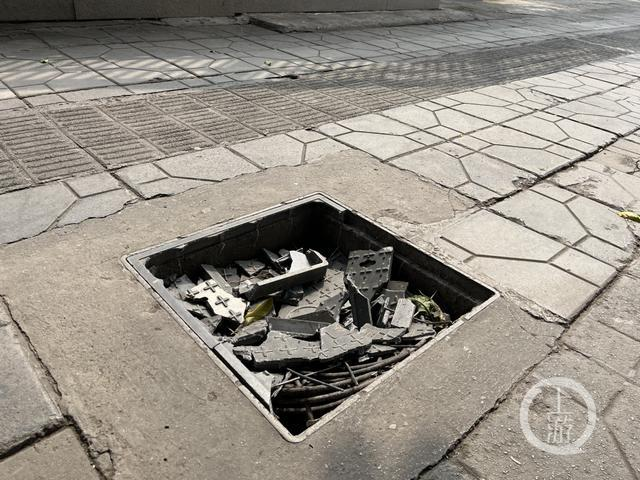broke: (13, 156, 598, 474)
